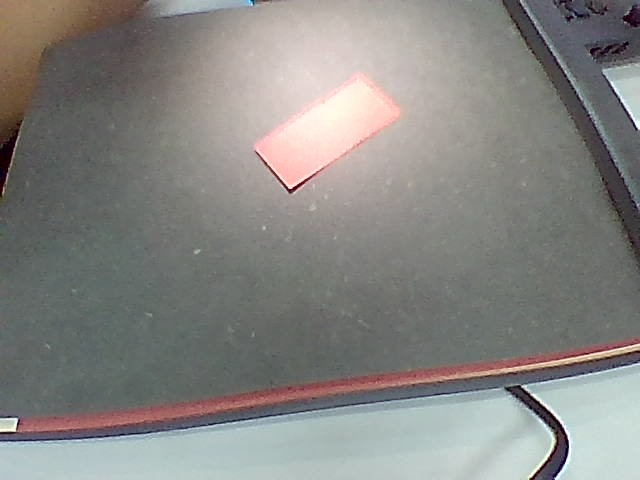card: (255, 74, 399, 190)
